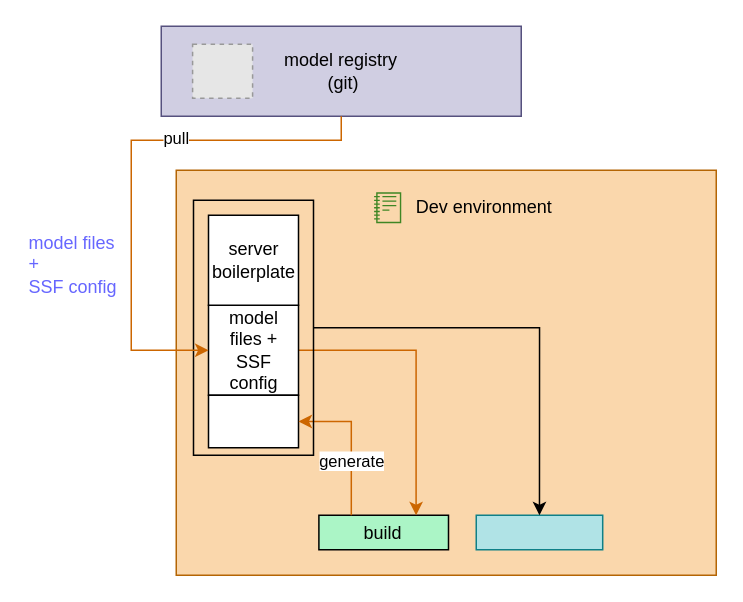
Some shapes in this 743 by 602 pixel diagram are drawn without their labels. Grey dashed boxes stand in for pictures. The shapes that lost their labels are listed below. From the top down, each one's centre as x and y in pixels, then its label:
At pixel 252 421: "custom endpoint".
At pixel 539 532: "run".
